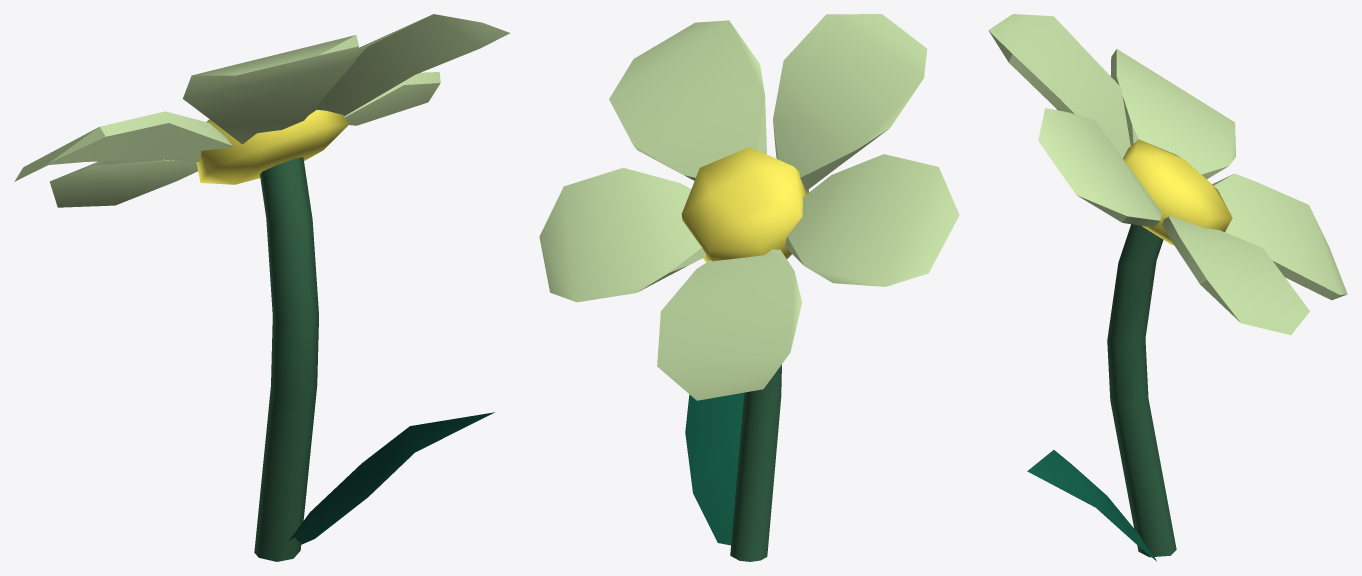
File: Flower1.fbx
The picture shows the model from 3 angles, left to right: view 1: azimuth 30°, elevation 25°; view 2: azimuth 150°, elevation 25°; view 3: azimuth 270°, elevation 25°; orthographic projection. The views are drawn at different scales.
Parts seen in each view (by area): view 1: Cube.004, Cylinder.006, Cube.001; view 2: Cube.004, Cylinder.006, Cube.001; view 3: Cube.004, Cylinder.006, Cube.001.
Part boxes in pixels (box(x1,y1,x2,y2)): Cube.004: box(14, 14, 510, 207); Cylinder.006: box(196, 110, 348, 561); Cube.001: box(288, 412, 494, 544); Cube.004: box(539, 14, 959, 400); Cylinder.006: box(681, 147, 808, 561); Cube.001: box(685, 392, 743, 545); Cube.004: box(988, 14, 1347, 335); Cylinder.006: box(1107, 139, 1232, 557); Cube.001: box(1027, 450, 1156, 561).
Size of the model in its own units: 88.35 by 112 by 73.6.
